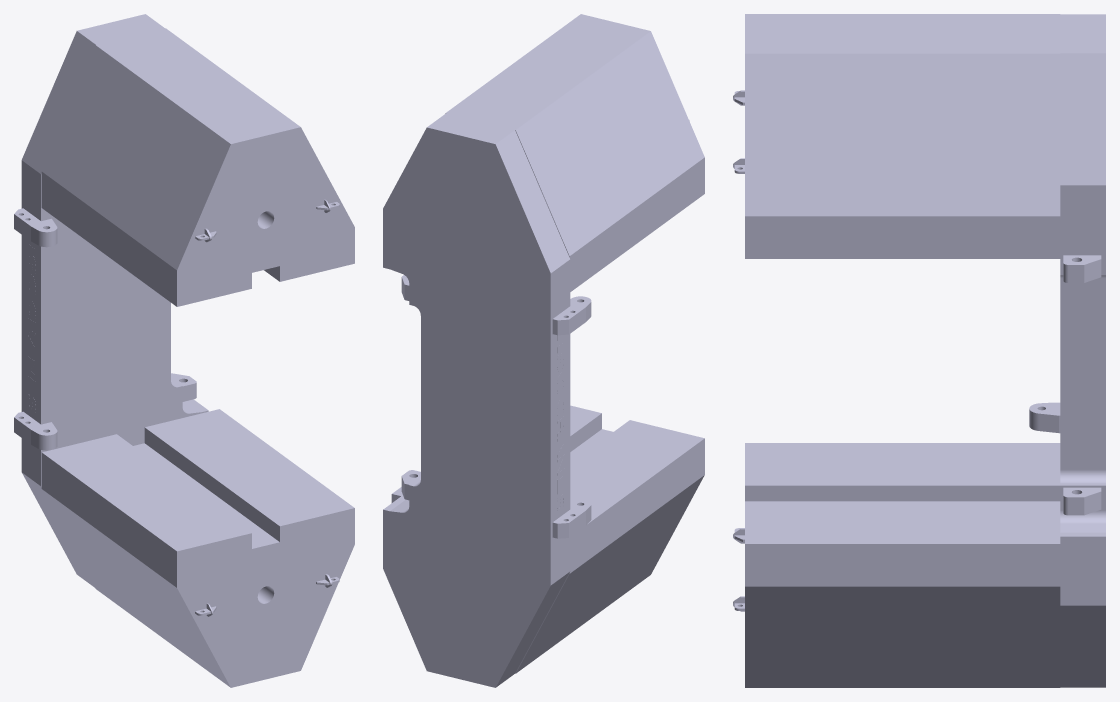
The model's file is CTWT.obj.
The picture shows the model from 3 angles, left to right: view 1: azimuth 30°, elevation 25°; view 2: azimuth 150°, elevation 25°; view 3: azimuth 270°, elevation 25°; orthographic projection. The views are drawn at different scales.
Parts seen in each view (by area): view 1: SCX2000-3_CTWT_000_1-HSC_SCX2000-3_CTWT_MODEL (Meshed); view 2: SCX2000-3_CTWT_000_1-HSC_SCX2000-3_CTWT_MODEL (Meshed); view 3: SCX2000-3_CTWT_000_1-HSC_SCX2000-3_CTWT_MODEL (Meshed).
Boxes of the visible parts, x1,y1,x2,y2 form: SCX2000-3_CTWT_000_1-HSC_SCX2000-3_CTWT_MODEL (Meshed): (14,14,354,687); SCX2000-3_CTWT_000_1-HSC_SCX2000-3_CTWT_MODEL (Meshed): (383,14,704,687); SCX2000-3_CTWT_000_1-HSC_SCX2000-3_CTWT_MODEL (Meshed): (733,14,1105,687).
Size of the model in its own units: 2475 by 6720 by 3582.
